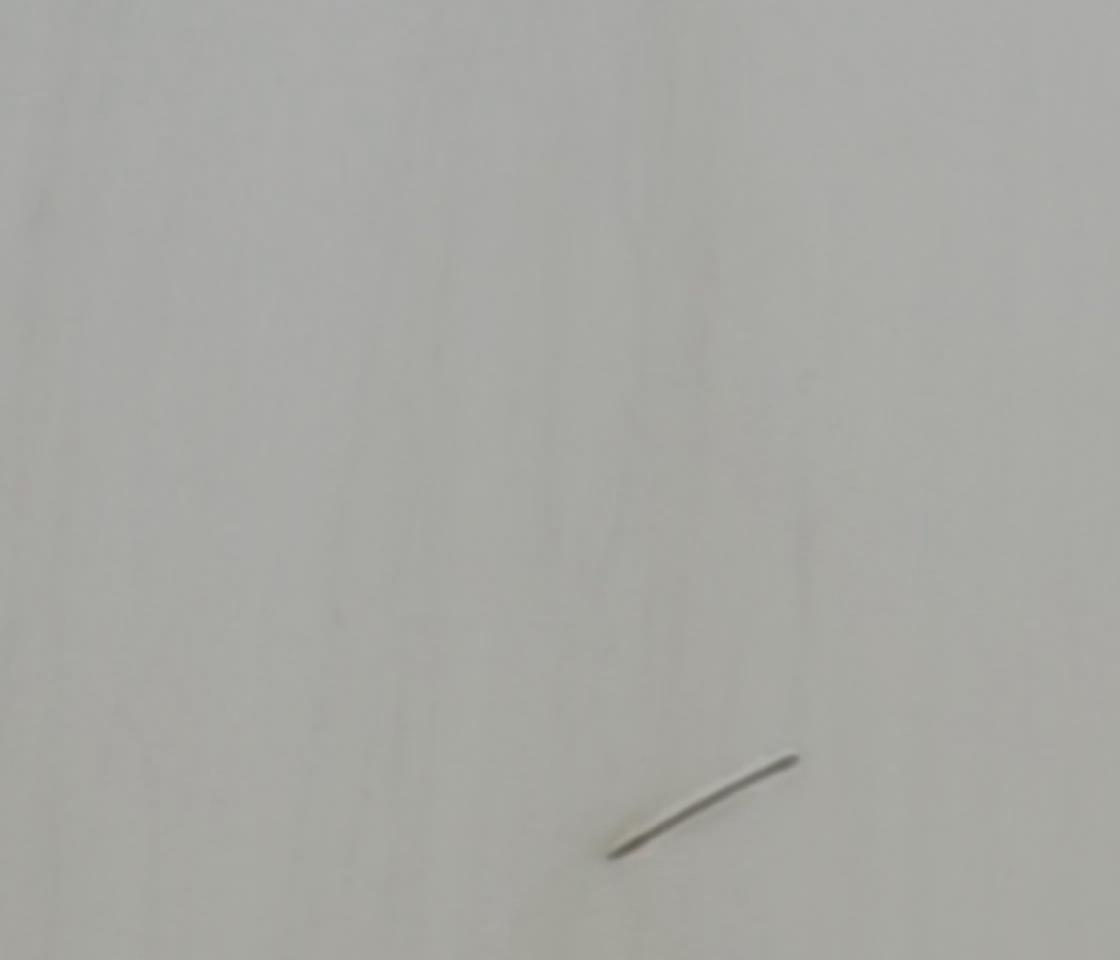scratch: (593, 747, 810, 875)
